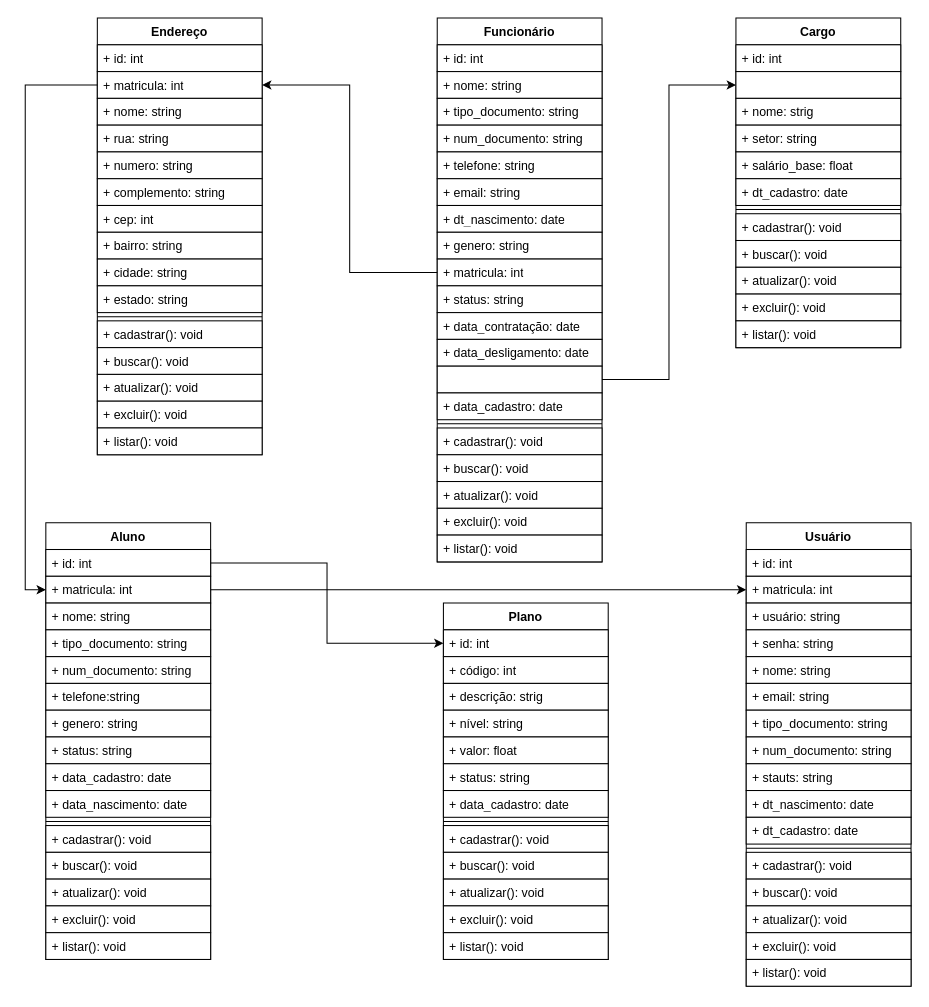
This 929x1007 diagram has some shape labels left out. Each missing label, with the centre of its shape:
+ cargo_id: int: the point at 519,379
+ codigo: int: the point at 818,84
